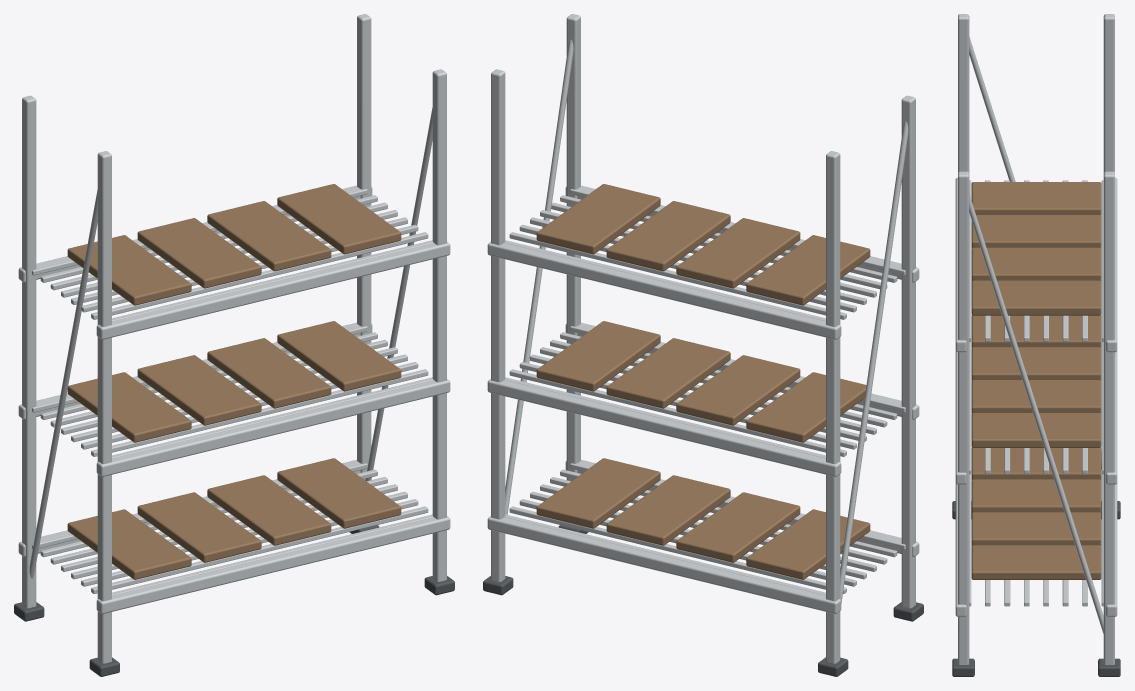
The model's file is chocolate-making-and-confectionery-mould-transport-rac-3cdb0f5f__39152.glb.
The picture shows the model from 3 angles, left to right: view 1: azimuth 30°, elevation 25°; view 2: azimuth 150°, elevation 25°; view 3: azimuth 270°, elevation 25°; orthographic projection. The views are drawn at different scales.
Parts seen in each view (by area): view 1: mould-transport-rack; view 2: mould-transport-rack; view 3: mould-transport-rack.
Boxes of the visible parts, x1,y1,x2,y2 form: mould-transport-rack: [14, 14, 454, 676]; mould-transport-rack: [483, 14, 923, 676]; mould-transport-rack: [952, 14, 1120, 676].
Size of the model in its own units: 1.22 by 1.7 by 0.52.
